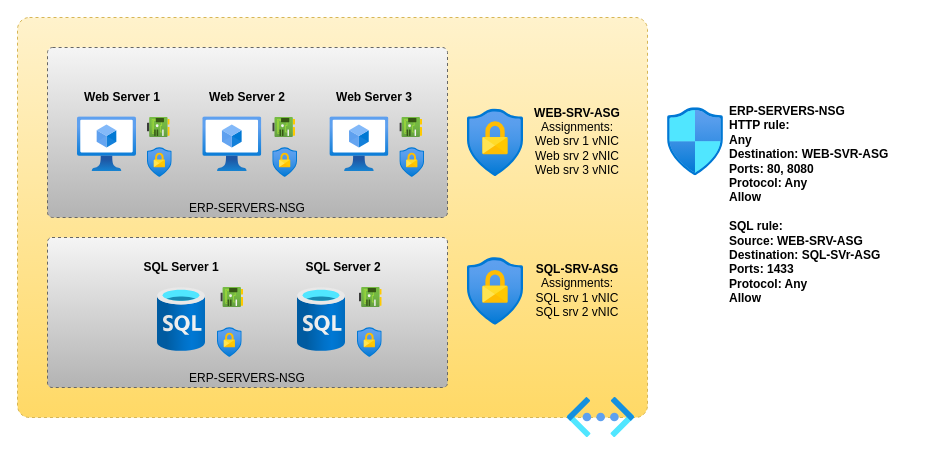
Image size: 925x476. Some labels were removed from this diagram. Here are the shapes that lost their labels. From the top down, the centre of each, then its label:
point (695, 141): NSG
point (600, 417): VNet
